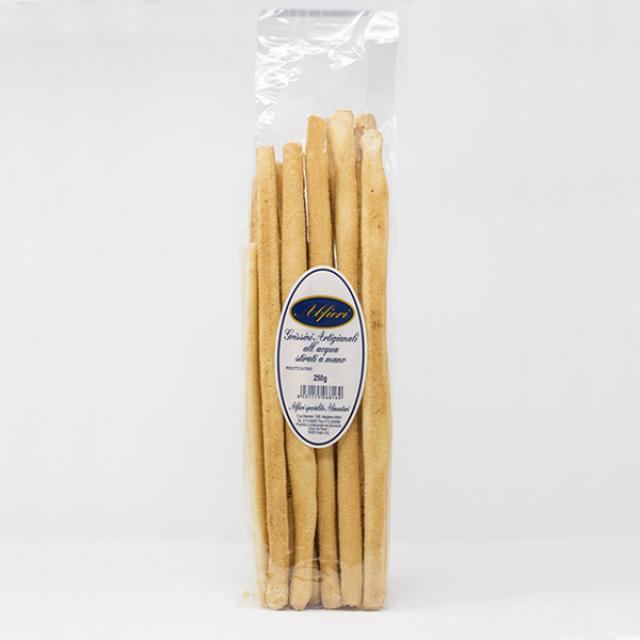Grissini: (250, 108, 393, 607)
